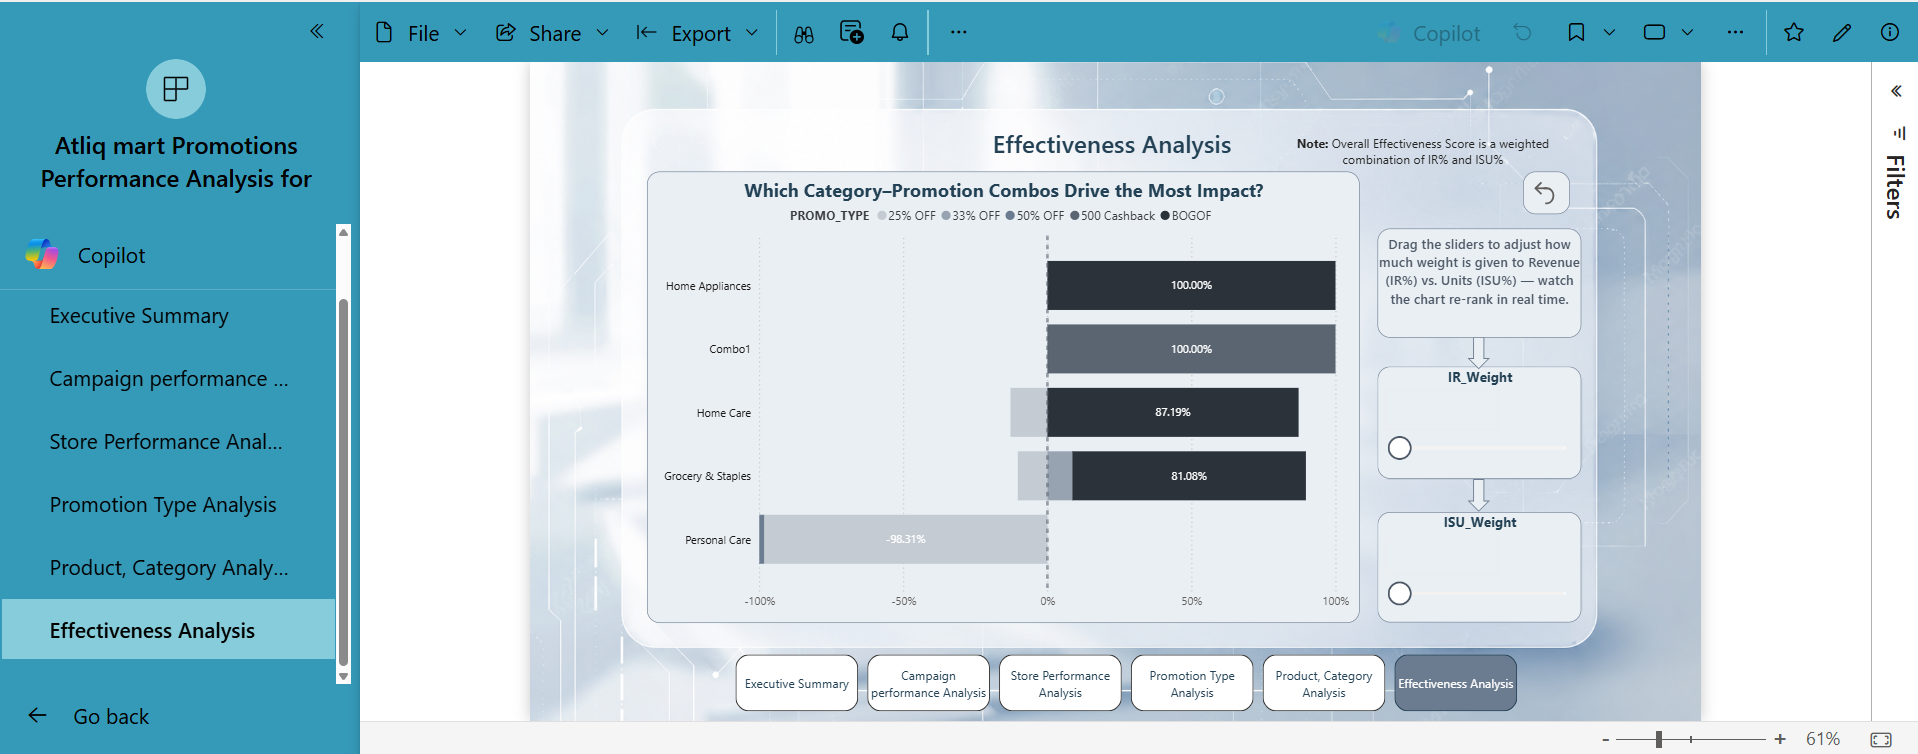

The dashboard page shown, as its layout file describes it:
{"tool":"powerbi","page":{"name":"Effectiveness Analysis","canvas":[1280,720],"ordinal":5},"visuals":[{"type":"textbox","box":[247.6,47.2,784.3,85],"z":0},{"type":"hundredPercentStackedBarChart","title":"Which Category–Promotion Combos Drive the Most Impact?","fields":{"Category":["DIM_PRODUCTS.CATEGORY"],"Series":["FACT_EVENTS.PROMO_TYPE"],"Y":["FACT_EVENTS.Overall Effectiveness"]},"box":[128.5,119.1,778.6,493.2],"z":1000},{"type":"slicer","title":"IR_Weight","fields":{"Values":["IR_WEIGHT.IR_WEIGHT"]},"box":[926,332.6,223,122.8],"z":2000},{"type":"pageNavigator","box":[225,647.4,854,62],"z":2000},{"type":"slicer","title":"ISU_Weight","fields":{"Values":["ISU_Weight.ISU_Weight"]},"box":[926,491.3,223,120.9],"z":3000},{"type":"shape","box":[1024.3,300.5,24.6,35.9],"z":4000},{"type":"actionButton","box":[1084.7,119.1,51,47],"z":5000},{"type":"shape","box":[1024.3,455.4,24.6,35.9],"z":5000},{"type":"textbox","box":[926,181.4,223,119.1],"z":6000},{"type":"textbox","box":[803.3,73.2,345.2,58.9],"z":6001}]}

Visuals, with their boxes on the page's 1280x720 design canvas (x1, y1, x2, y2). These are canvas units, not pixel positions in the 1918x754 screenshot, which may show the page scaled, cropped or inside an application window:
textbox: left=248, top=47, right=1032, bottom=132
"Which Category–Promotion Combos Drive the Most Impact?" hundredPercentStackedBarChart: left=128, top=119, right=907, bottom=612
"IR_Weight" slicer: left=926, top=333, right=1149, bottom=455
pageNavigator: left=225, top=647, right=1079, bottom=709
"ISU_Weight" slicer: left=926, top=491, right=1149, bottom=612
shape: left=1024, top=300, right=1049, bottom=336
actionButton: left=1085, top=119, right=1136, bottom=166
shape: left=1024, top=455, right=1049, bottom=491
textbox: left=926, top=181, right=1149, bottom=300
textbox: left=803, top=73, right=1148, bottom=132
